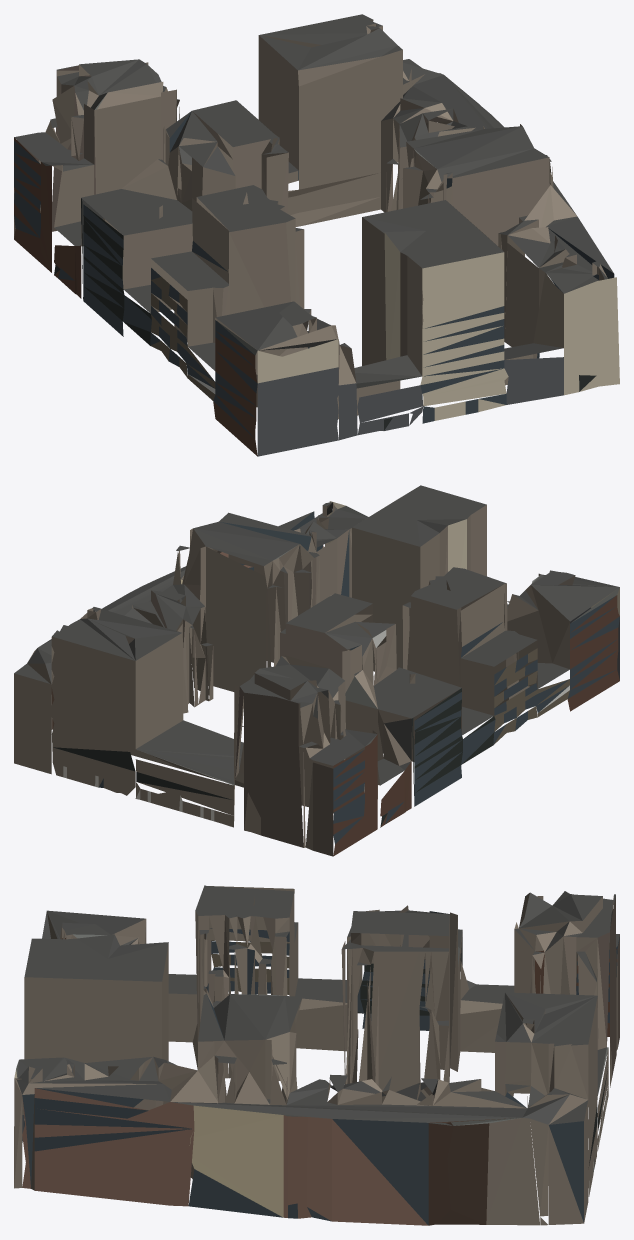
The model's file is westerdoksdijk-215.lod2.glb.
The picture shows the model from 3 angles, top to bottom: view 1: azimuth 30°, elevation 25°; view 2: azimuth 150°, elevation 25°; view 3: azimuth 270°, elevation 25°; orthographic projection. The views are drawn at different scales.
Visible parts, largest first — view 1: lod2; view 2: lod2; view 3: lod2.
Boxes of the visible parts, x1,y1,x2,y2 form: lod2: [14, 14, 619, 456]; lod2: [14, 485, 619, 856]; lod2: [14, 885, 619, 1225].
Bounding box in the file's own units: 97.76 × 37.38 × 120.
